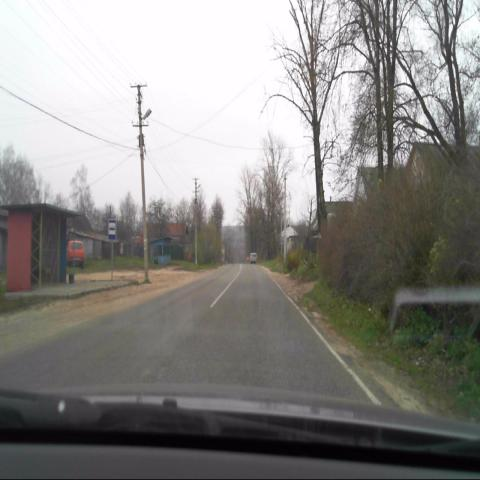5_16: (108, 219, 118, 243)
